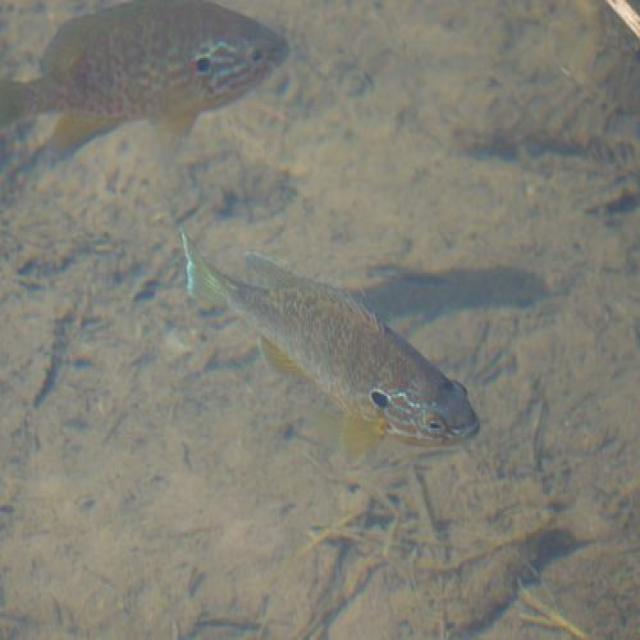Gunes Levregi: (175, 205, 486, 481)
